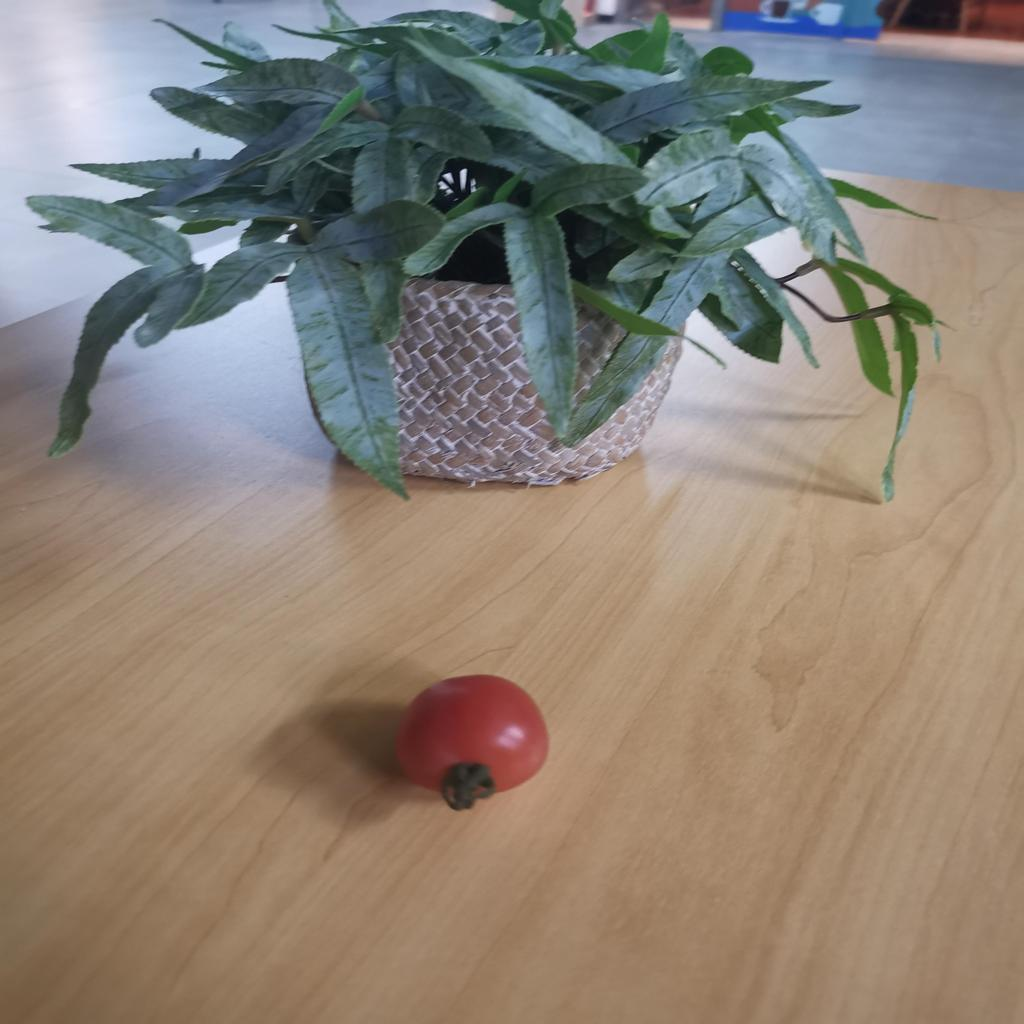tomato: (390, 671, 554, 803)
